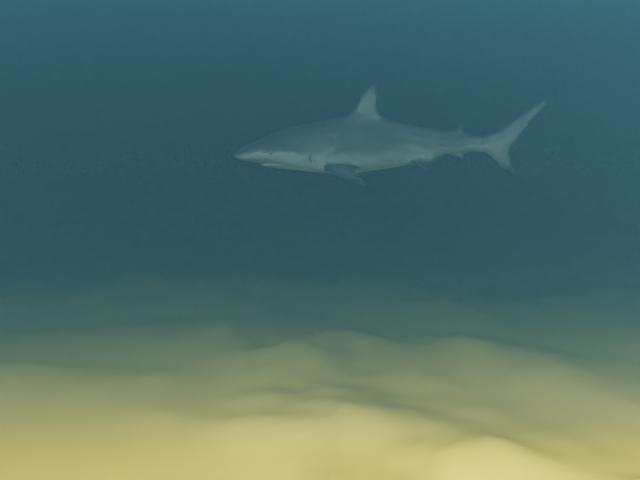Carribean Shark.001: (233, 83, 553, 185)
